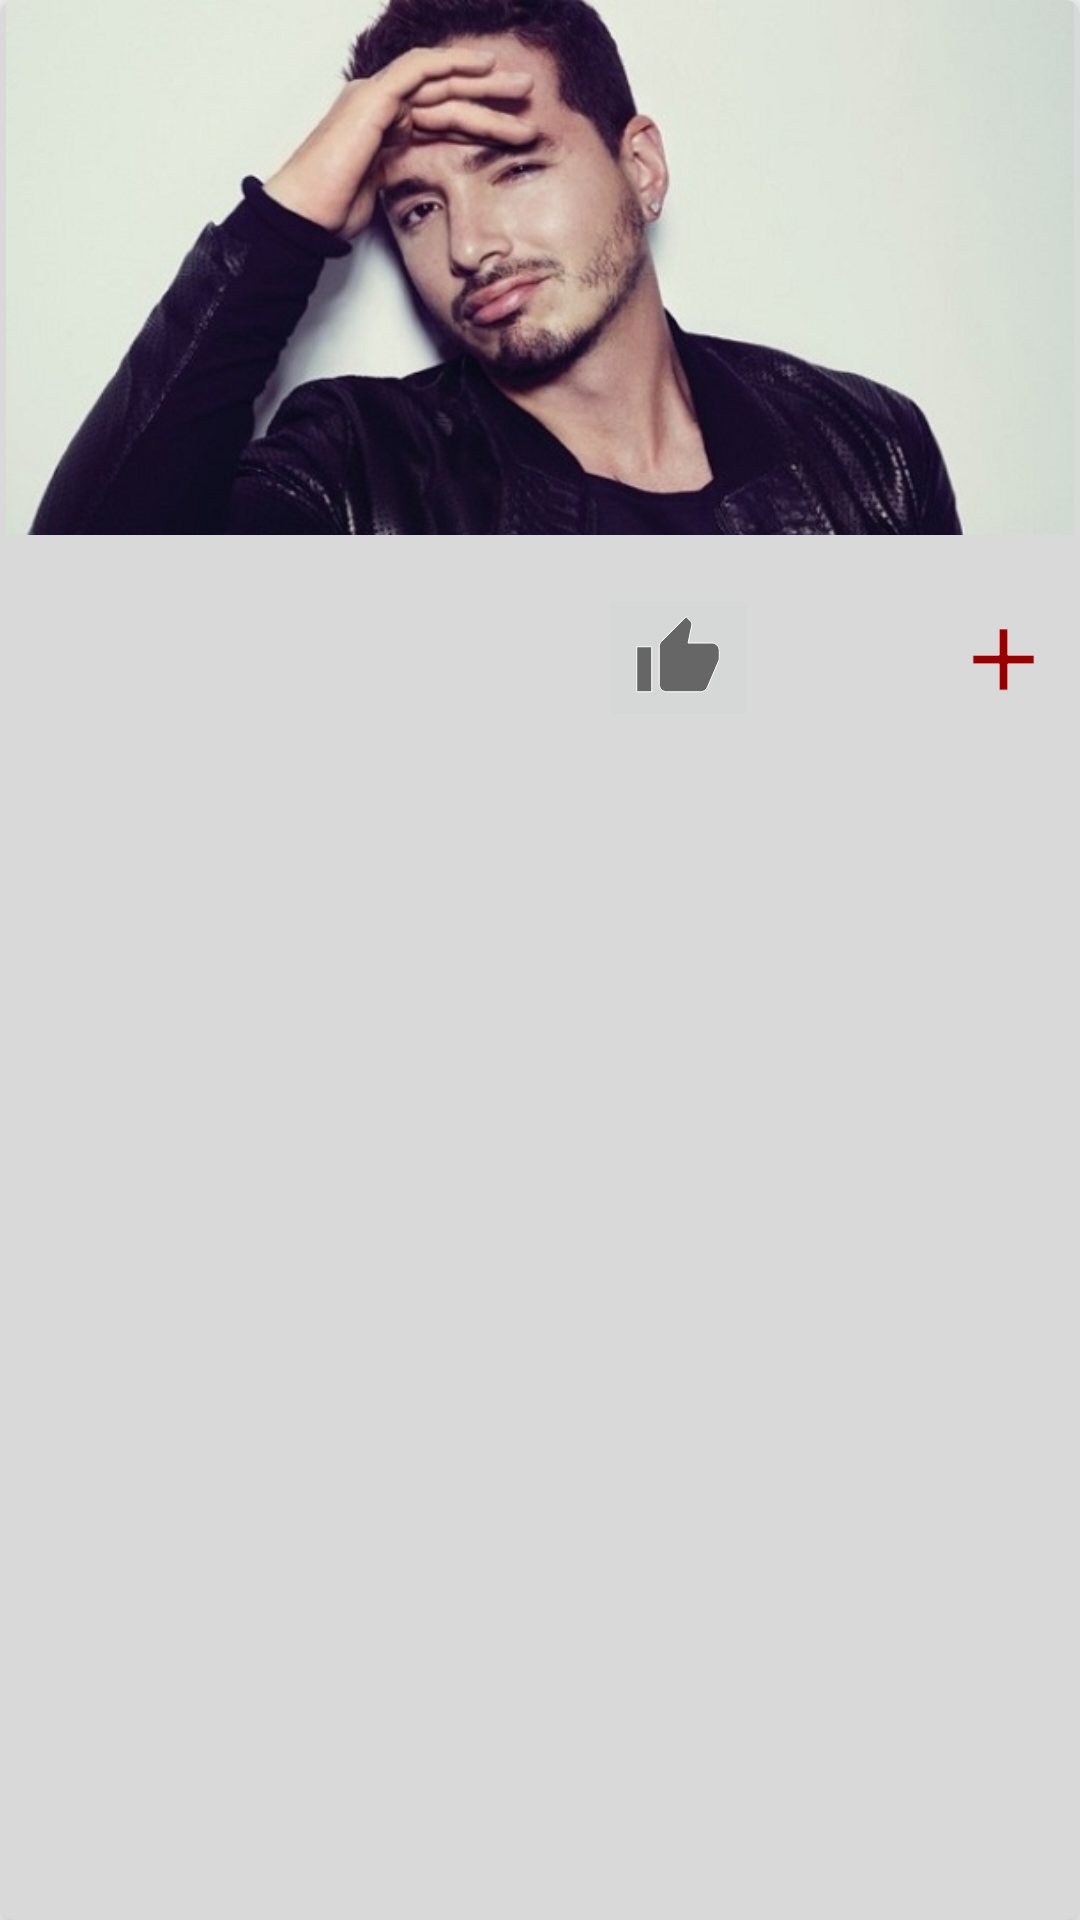

Locate icon controls on the screen. Image size 1080*1920, boxes as (x1, y1, x2, y2).
votacion: (637, 618, 719, 692)
